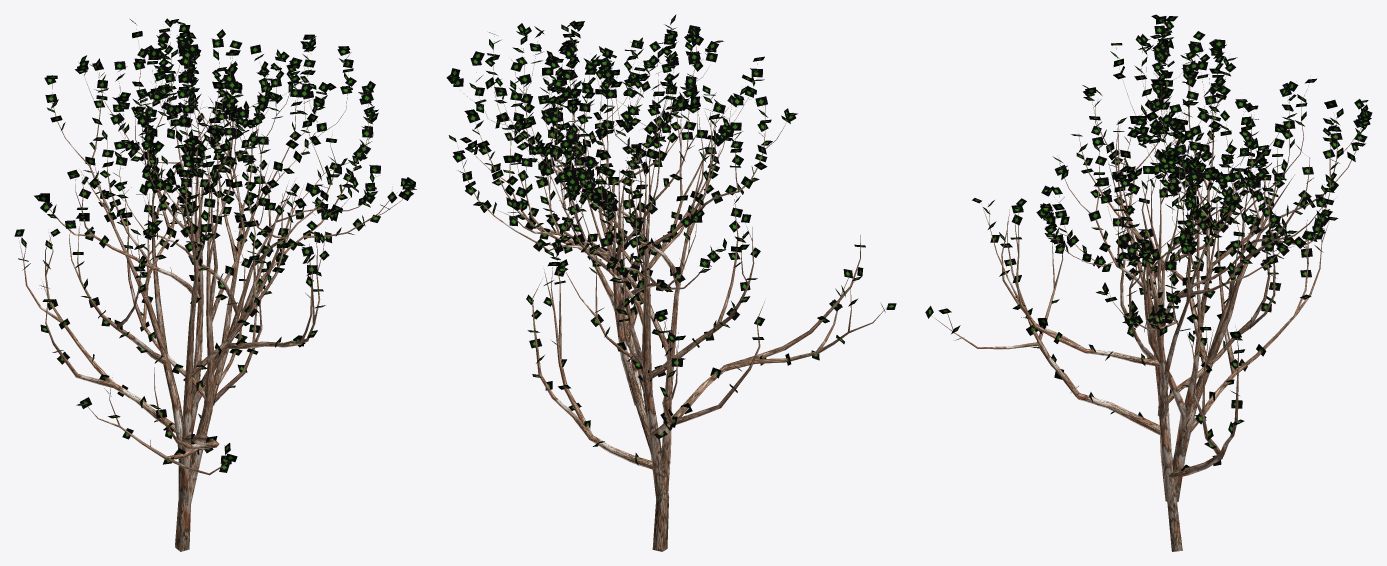
Rendered from tree.obj.
The picture shows the model from 3 angles, left to right: view 1: azimuth 30°, elevation 25°; view 2: azimuth 150°, elevation 25°; view 3: azimuth 270°, elevation 25°; orthographic projection. The views are drawn at different scales.
Parts seen in each view (by area): view 1: leaves, tree; view 2: leaves, tree; view 3: leaves, tree.
Boxes of the visible parts, x1=… form: leaves: x1=14, y1=18, x2=416, y2=472; tree: x1=18, y1=25, x2=407, y2=551; leaves: x1=446, y1=14, x2=896, y2=465; tree: x1=457, y1=30, x2=888, y2=551; leaves: x1=925, y1=14, x2=1372, y2=470; tree: x1=932, y1=23, x2=1361, y2=551.
Size of the model in its own units: 17.68 by 22.68 by 17.64.
